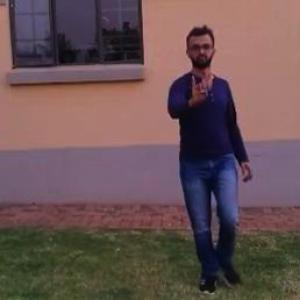takeoff-hand: (184, 66, 215, 108)
